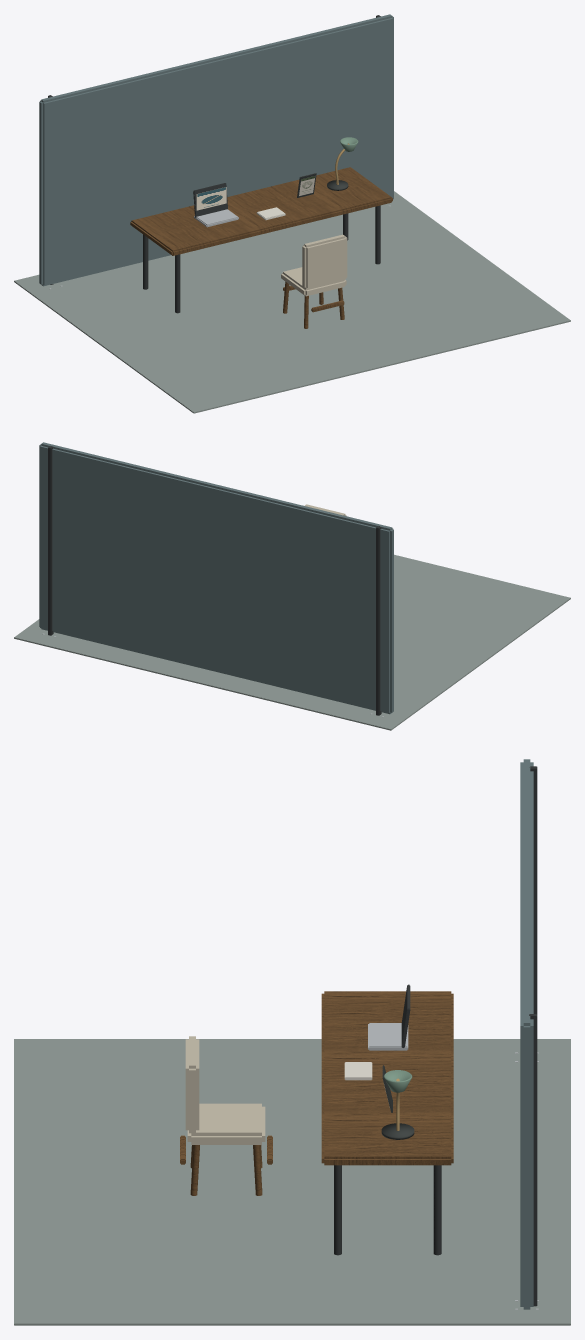
File: workspace_room_v294.glb
3 views of the same model, one above another, from view 1: azimuth 30°, elevation 25°; view 2: azimuth 150°, elevation 25°; view 3: azimuth 270°, elevation 25° (orthographic). The views are drawn at different scales.
Visible parts, largest first — view 1: workspace_room_v294_V294_Woven_rug, workspace_room_v294_V294_Acoustic_felt, workspace_room_v294_CC0_Oak_veneer, workspace_room_v294_Woven_1.003, workspace_room_v294_Anodised_graphite, workspace_room_v294_CC0_Oak_veneer.004, workspace_room_v294_FY21_original_packaging.002; view 2: workspace_room_v294_V294_Acoustic_felt, workspace_room_v294_V294_Woven_rug, workspace_room_v294_Anodised_graphite; view 3: workspace_room_v294_V294_Woven_rug, workspace_room_v294_CC0_Oak_veneer, workspace_room_v294_V294_Acoustic_felt, workspace_room_v294_Woven_1.003, workspace_room_v294_Anodised_graphite, workspace_room_v294_CC0_Oak_veneer.004, workspace_room_v294_Brushed_stainless.006.
Part boxes in pixels (<box>): workspace_room_v294_V294_Woven_rug: <box>14,191,570,413</box>; workspace_room_v294_V294_Acoustic_felt: <box>39,14,393,286</box>; workspace_room_v294_CC0_Oak_veneer: <box>130,167,392,255</box>; workspace_room_v294_Woven_1.003: <box>281,234,347,296</box>; workspace_room_v294_Anodised_graphite: <box>48,15,380,313</box>; workspace_room_v294_CC0_Oak_veneer.004: <box>283,281,344,328</box>; workspace_room_v294_FY21_original_packaging.002: <box>196,187,226,210</box>; workspace_room_v294_V294_Acoustic_felt: <box>39,442,393,714</box>; workspace_room_v294_V294_Woven_rug: <box>14,554,570,730</box>; workspace_room_v294_Anodised_graphite: <box>48,446,381,715</box>; workspace_room_v294_V294_Woven_rug: <box>14,1039,570,1325</box>; workspace_room_v294_CC0_Oak_veneer: <box>321,991,453,1165</box>; workspace_room_v294_V294_Acoustic_felt: <box>520,759,533,1309</box>; workspace_room_v294_Woven_1.003: <box>185,1036,265,1144</box>; workspace_room_v294_Anodised_graphite: <box>334,766,537,1306</box>; workspace_room_v294_CC0_Oak_veneer.004: <box>180,1135,272,1195</box>; workspace_room_v294_Brushed_stainless.006: <box>368,1023,408,1050</box>.
Size of the model in its own units: 4.6 by 2.2 by 3.8.
Materials: 16 (4 with a texture image).
